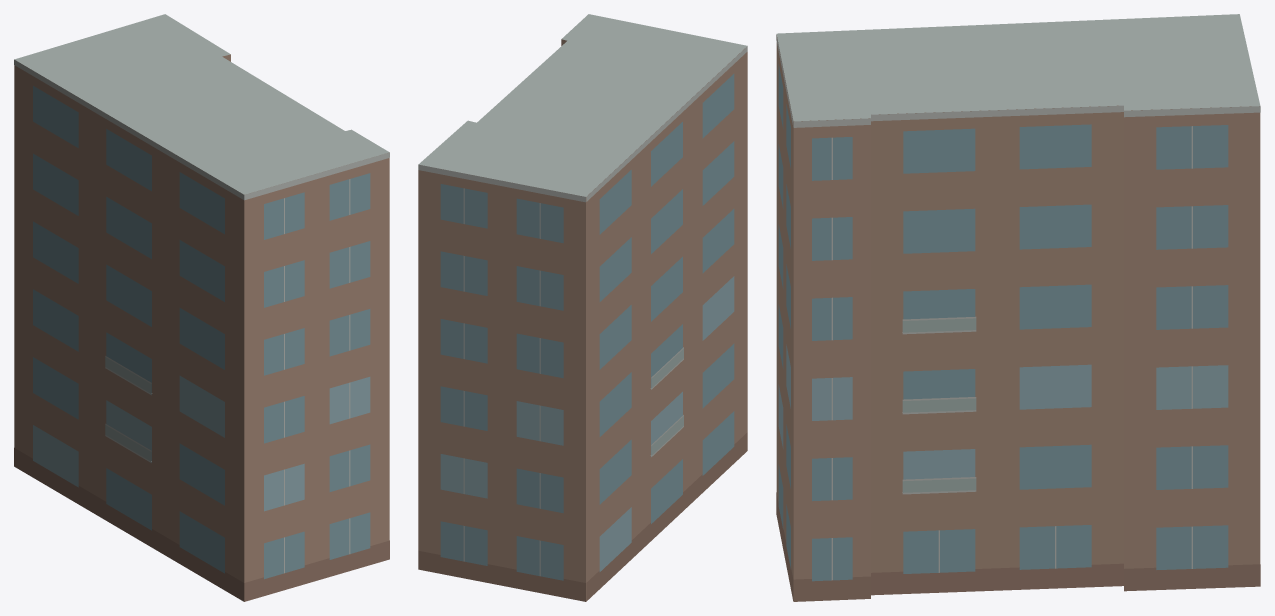
File: survey-upis-32568134.glb
The picture shows the model from 3 angles, left to right: view 1: azimuth 30°, elevation 25°; view 2: azimuth 150°, elevation 25°; view 3: azimuth 270°, elevation 25°; orthographic projection. The views are drawn at different scales.
Visible parts, largest first — view 1: survey-upis-32568134.tmp; view 2: survey-upis-32568134.tmp; view 3: survey-upis-32568134.tmp.
Part boxes in pixels (<box>): survey-upis-32568134.tmp: <box>14,14,389,601</box>; survey-upis-32568134.tmp: <box>418,14,747,601</box>; survey-upis-32568134.tmp: <box>776,14,1260,601</box>.
Bounding box in the file's own units: 8.64 × 18 × 16.44.
